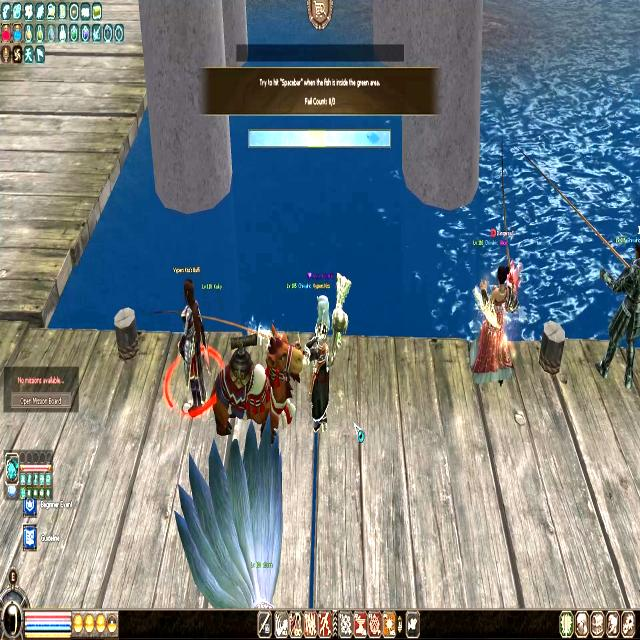fishes: (366, 130, 380, 146)
